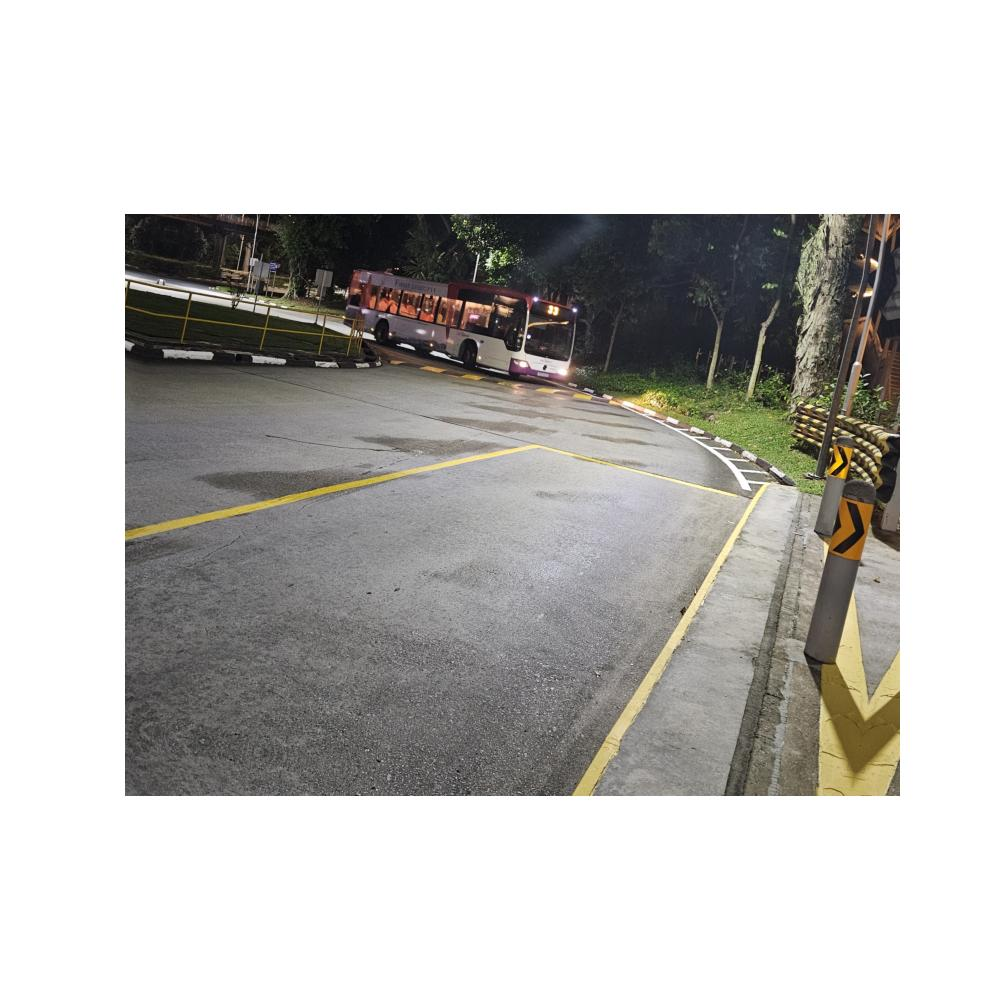bus: (337, 265, 583, 387)
